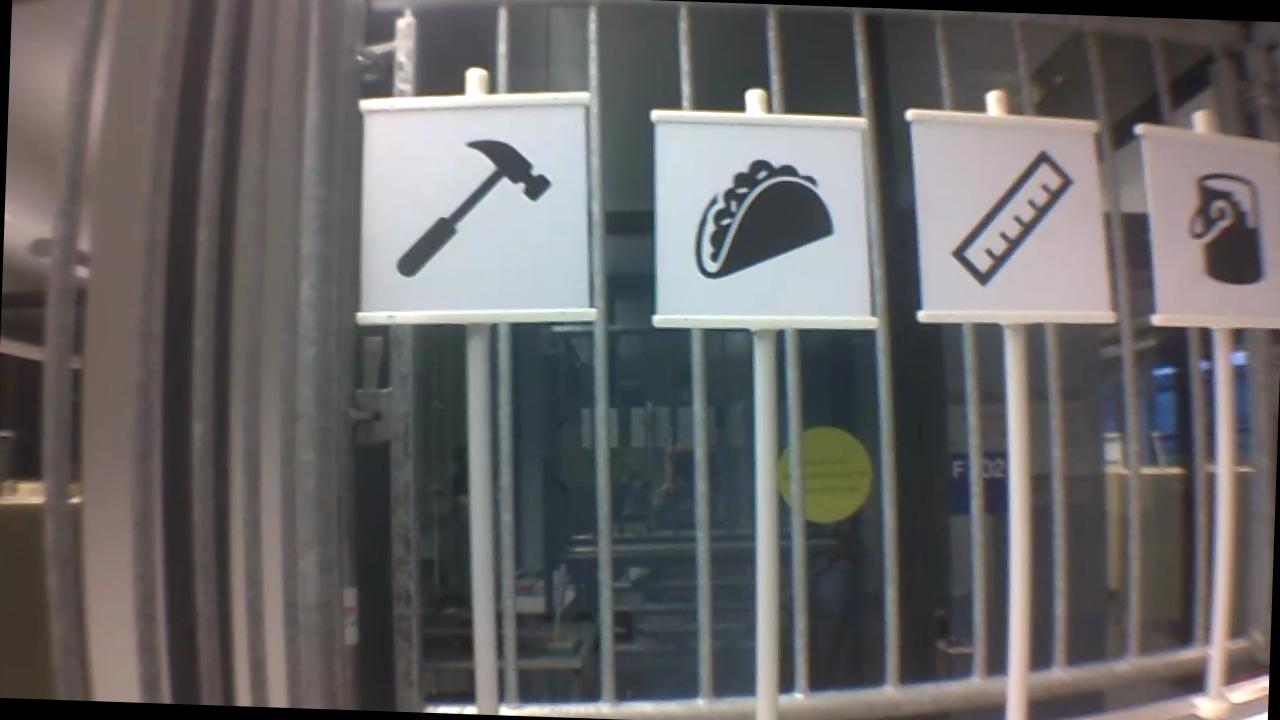bucket: (1177, 164, 1271, 291)
hammer: (391, 125, 560, 288)
ruler: (942, 142, 1078, 294)
taco: (685, 150, 841, 287)
